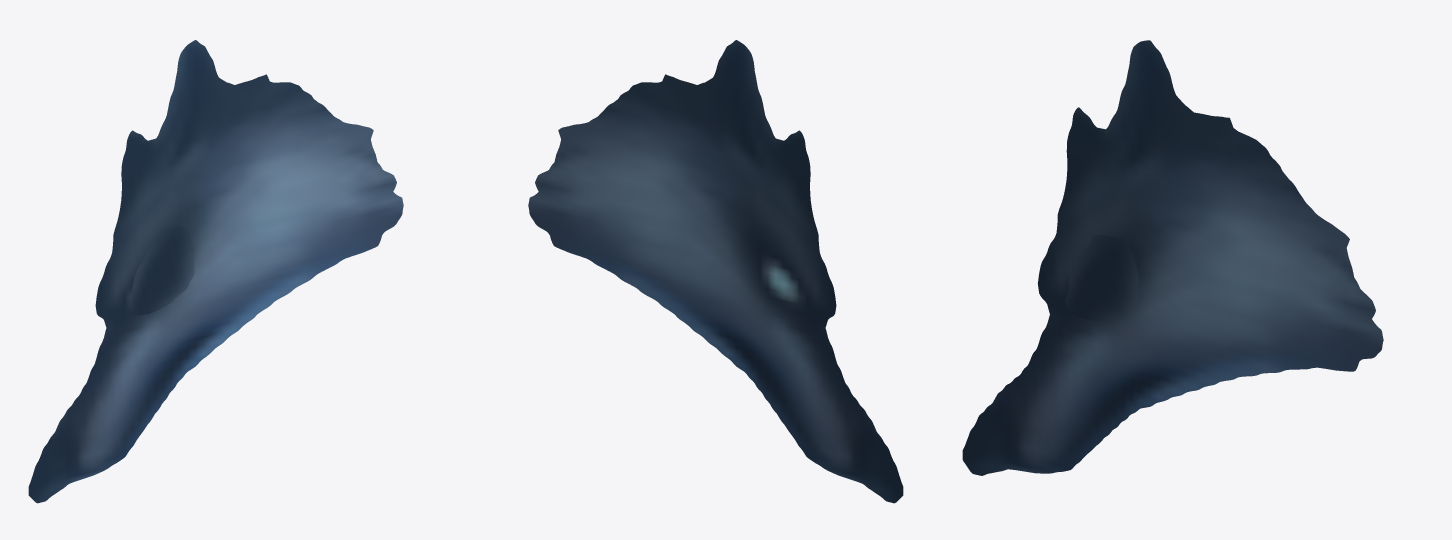
The model's file is map_wolfhead2.FBX.
The picture shows the model from 3 angles, left to right: view 1: azimuth 30°, elevation 25°; view 2: azimuth 150°, elevation 25°; view 3: azimuth 330°, elevation 25°; orthographic projection. The views are drawn at different scales.
Visible parts, largest first — view 1: map_wolfhead2, map_wolfhead2_eyes; view 2: map_wolfhead2; view 3: map_wolfhead2, map_wolfhead2_eyes.
Boxes of the visible parts, box(x1,y1,x2,y2) form: map_wolfhead2: box(28, 40, 403, 503); map_wolfhead2_eyes: box(129, 226, 194, 315); map_wolfhead2: box(528, 40, 903, 503); map_wolfhead2: box(962, 40, 1383, 475); map_wolfhead2_eyes: box(1065, 234, 1138, 320).
Bounding box in the file's own units: 55.44 × 57.9 × 1.
